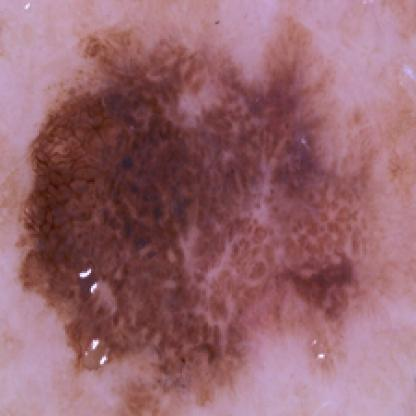Skin_Cancer-Malignant: (13, 14, 374, 416)
